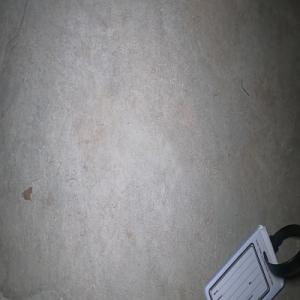LuggageTag: (202, 221, 300, 300)
